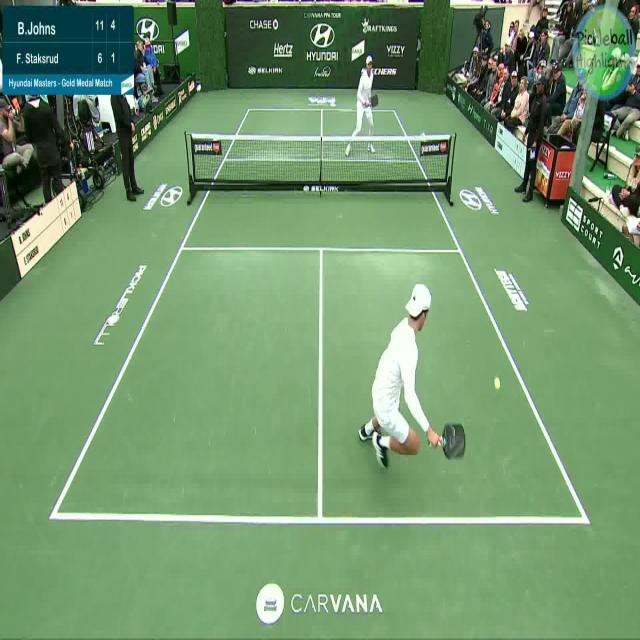ball: (494, 374, 502, 392)
